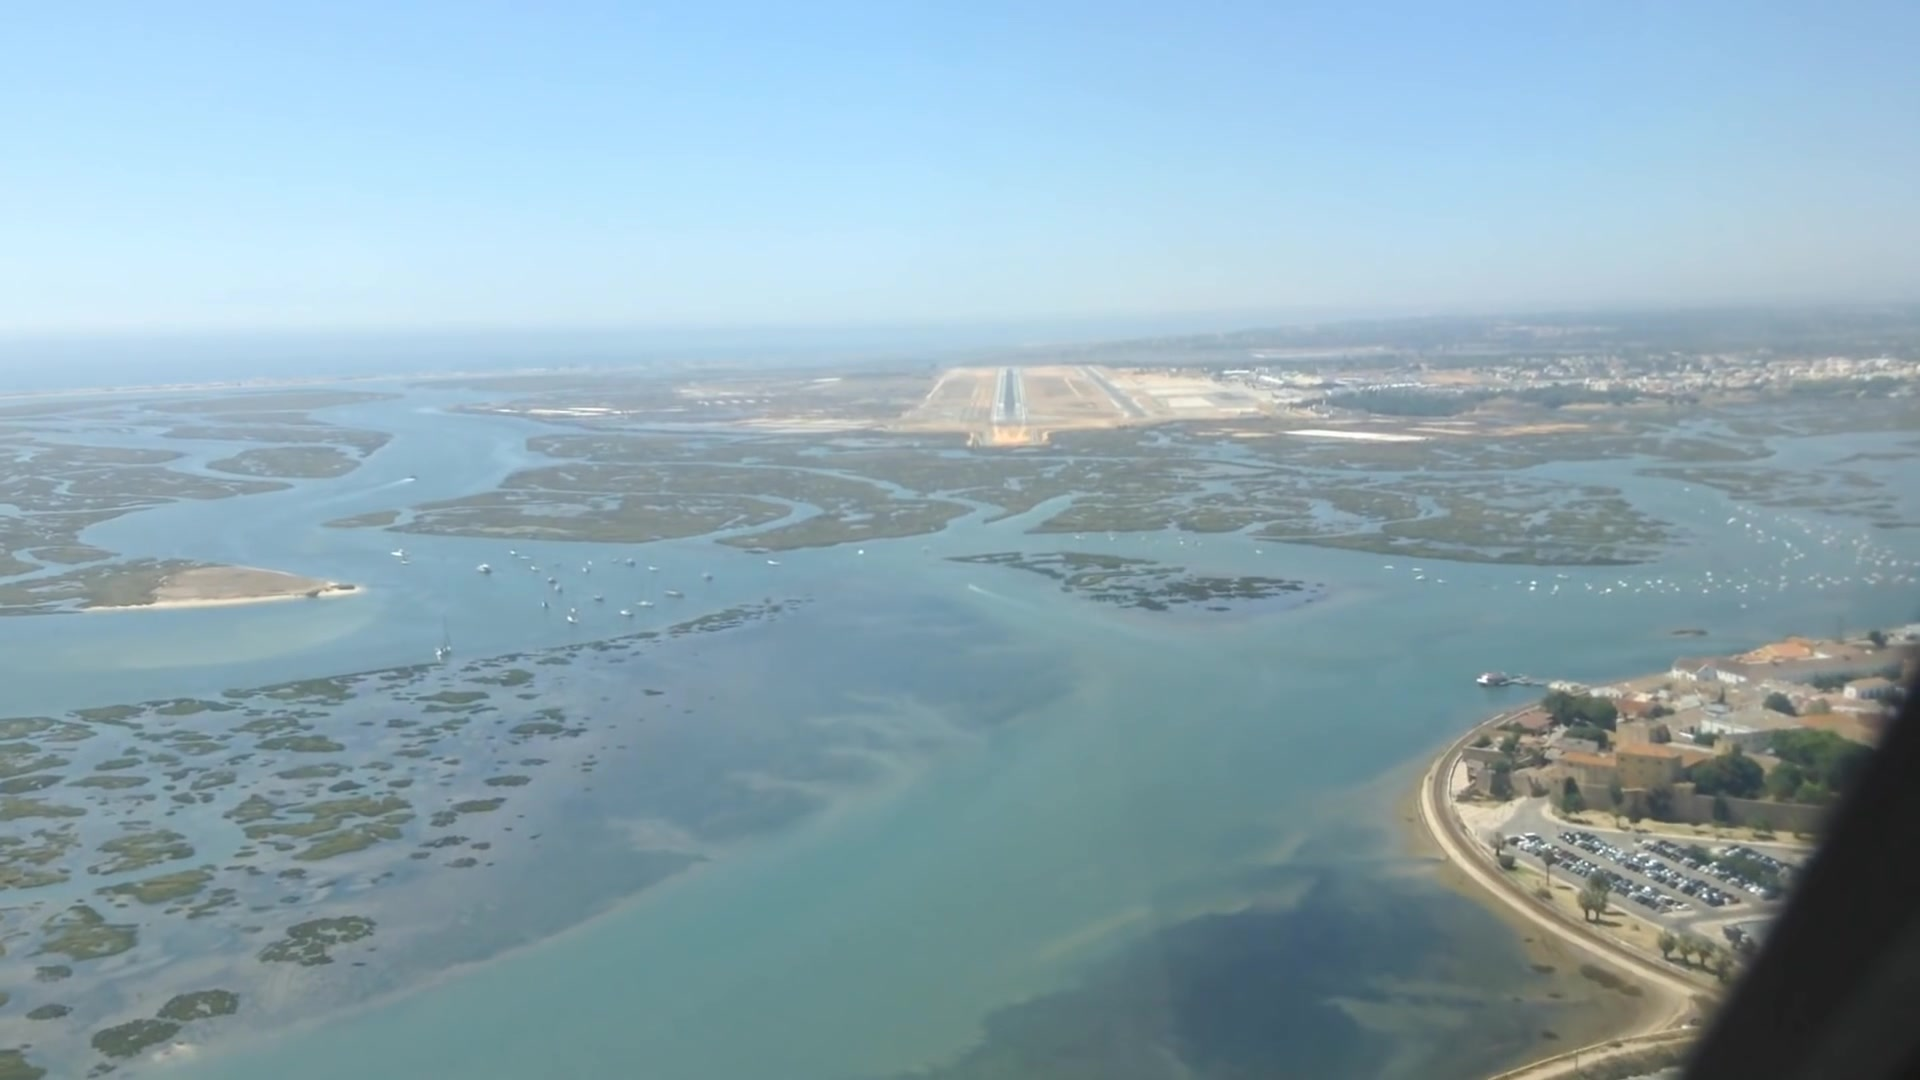runway: (989, 368, 1027, 426)
